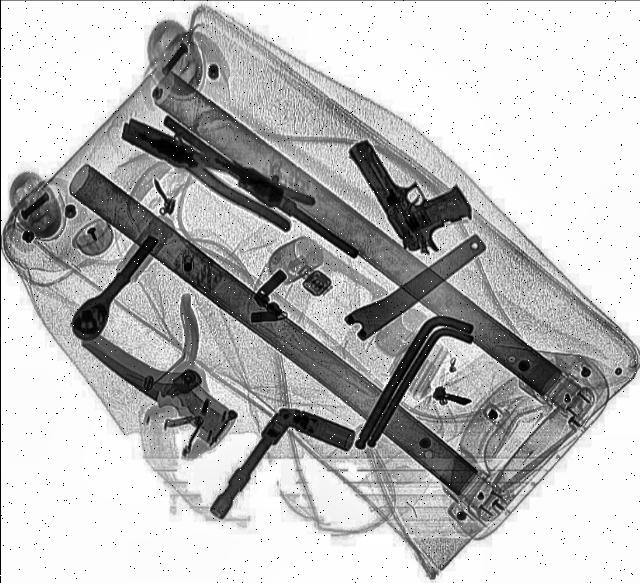Gun: (344, 116, 488, 260)
Pliers: (107, 109, 319, 235)
